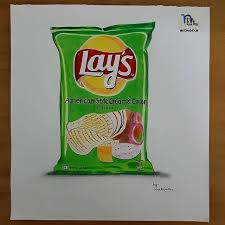lays-small: (54, 25, 153, 170)
